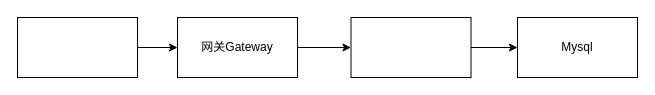
This 655x95 diagram has some shape labels left out. The shapes that lost their labels are listed below. From the top down, each one's centre as x and y in pixels, then its label:
At [77,47]: "Web".
At [410,47]: "医药服务".
